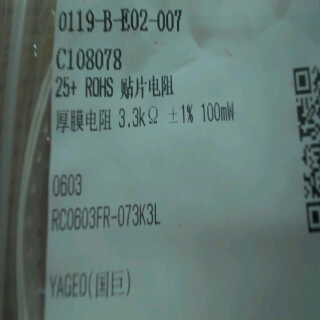3.3kO: (115, 101, 166, 135)
